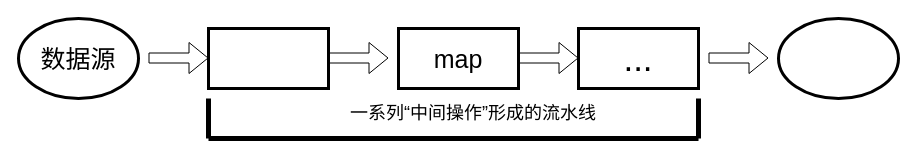
The diagram is 917 pixels wide and 159 high, and some of its shapes have lost their labels. Here are the shapes that lost their labels. From the top down, the centre of each, then its label:
the point at 268,58: filter
the point at 838,58: 终止操作
